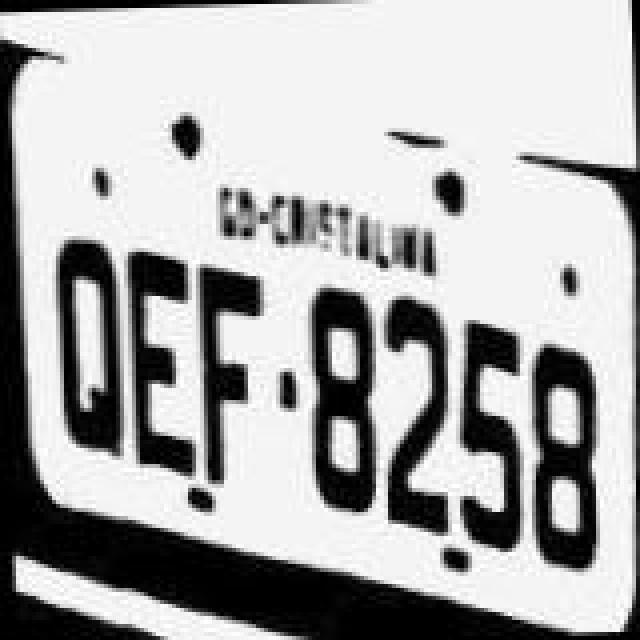2: (372, 288, 456, 536)
5: (454, 314, 526, 554)
8: (522, 340, 602, 572), (304, 282, 376, 518)
E: (120, 248, 200, 476)
F: (194, 260, 270, 484)
Q: (46, 236, 126, 468)
